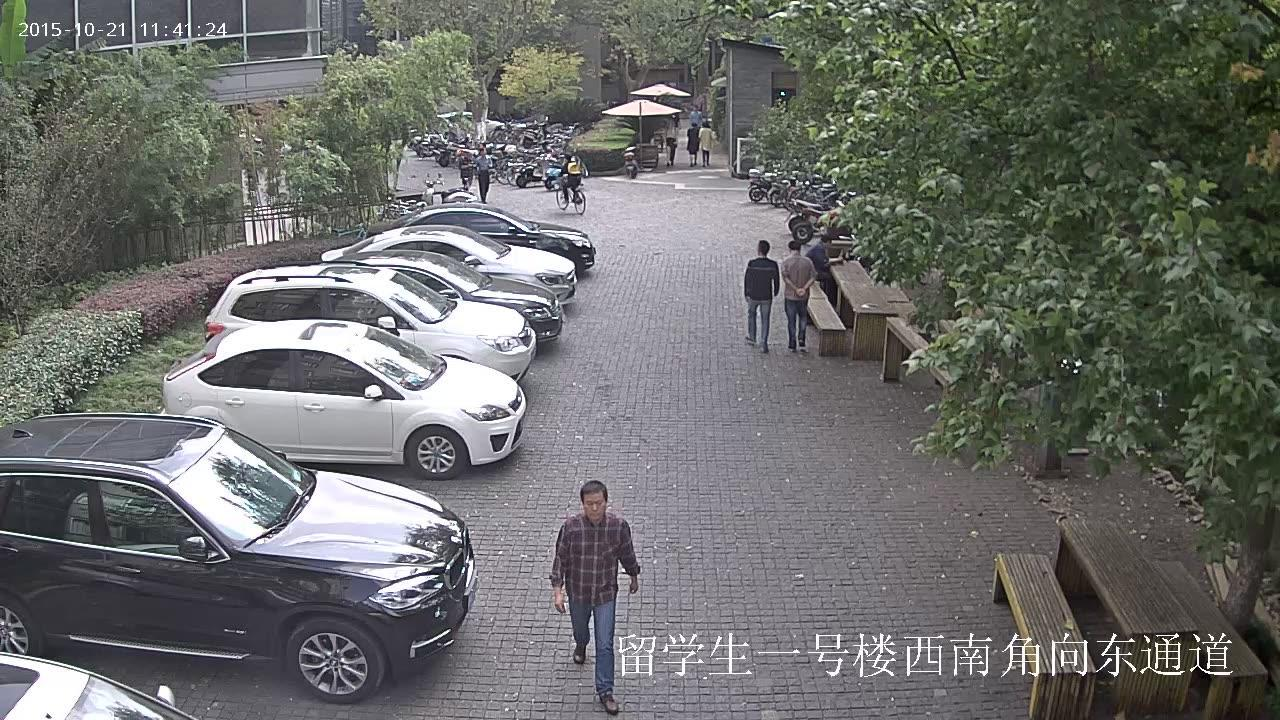person: (550, 479, 640, 715), (780, 239, 817, 353), (744, 239, 779, 354), (802, 233, 835, 303), (554, 151, 587, 215), (558, 152, 587, 204), (475, 147, 492, 204), (698, 121, 717, 167), (663, 118, 679, 166), (458, 148, 474, 193), (687, 122, 700, 167), (689, 104, 702, 130)
